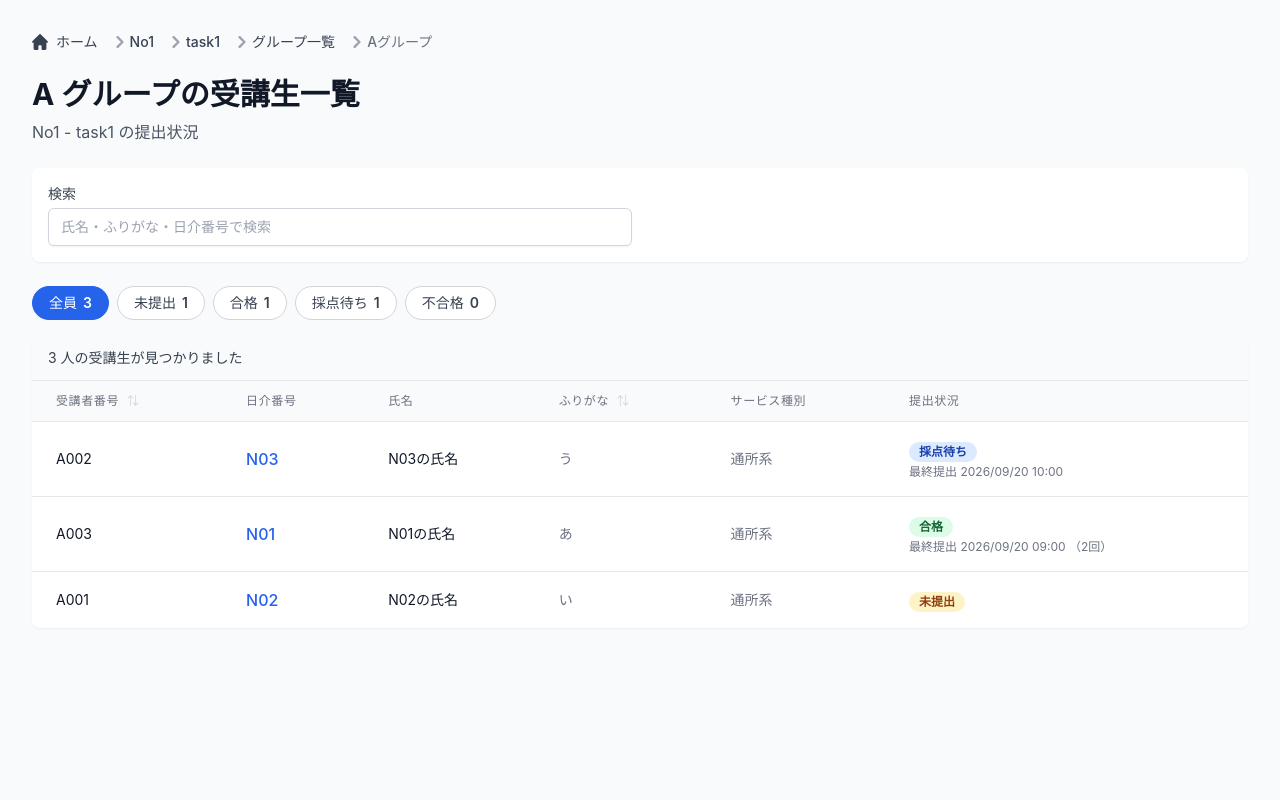
GroupStudentsView (responsive table / cards) › 提出状況（誰が提出済みかを一覧で分かるようにする） › should show the empty state for a status nobody has (不合格 0)
Click the button "不合格 0". click: point(450, 303)
box: [405,286,496,320]
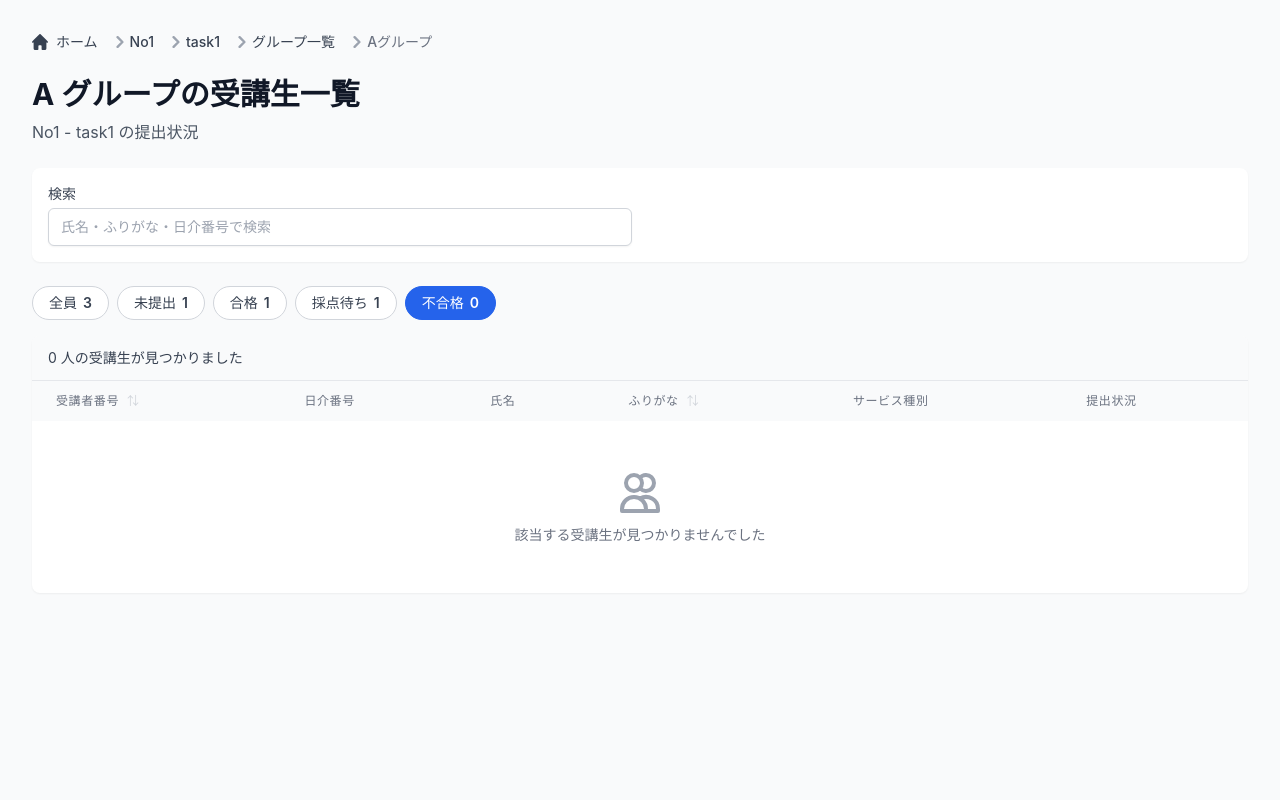
Result: the text "該当する受講生が見つかりませんでした" is shown at [514,526,765,543]
